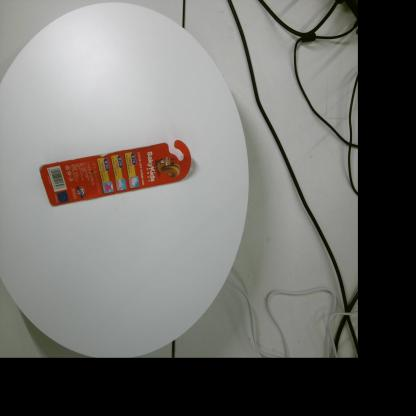Personal Hygiene: (39, 140, 191, 206)
